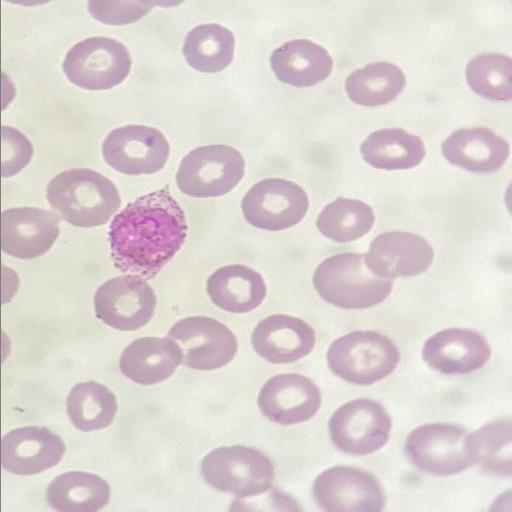Infected: (110, 179, 183, 288)
Uninfected: (311, 249, 392, 309), (47, 163, 120, 227), (326, 326, 400, 387), (401, 423, 482, 474), (61, 35, 132, 91), (250, 309, 318, 367), (329, 395, 393, 456), (1, 426, 69, 482), (364, 229, 435, 282), (169, 313, 237, 368), (241, 176, 311, 229), (104, 120, 171, 175), (201, 440, 276, 489), (0, 203, 63, 261), (421, 326, 495, 375), (176, 143, 242, 197), (313, 463, 385, 512), (93, 275, 159, 328), (119, 335, 184, 386), (257, 376, 323, 425), (441, 128, 510, 173), (271, 39, 333, 88), (344, 58, 407, 106), (359, 128, 426, 172), (207, 263, 266, 311), (69, 379, 117, 435), (316, 195, 373, 242), (183, 20, 234, 72), (466, 49, 512, 104), (47, 472, 109, 511)
